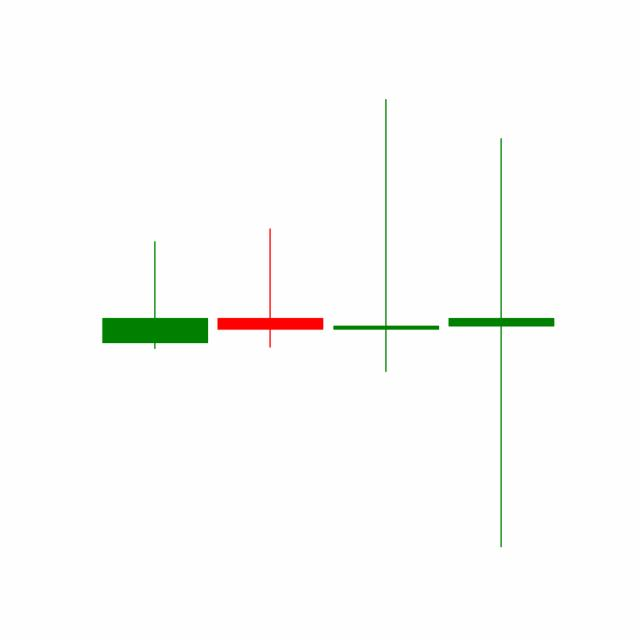Spinning Top: (328, 96, 444, 375)
